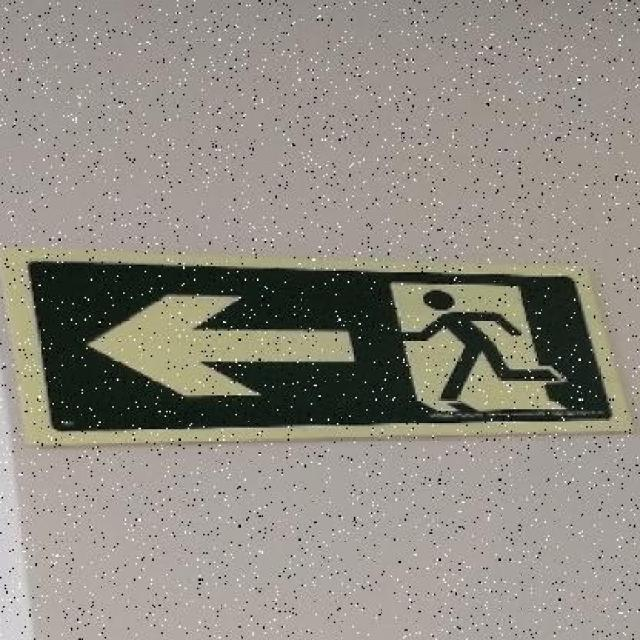exit_sign: (0, 229, 638, 454)
